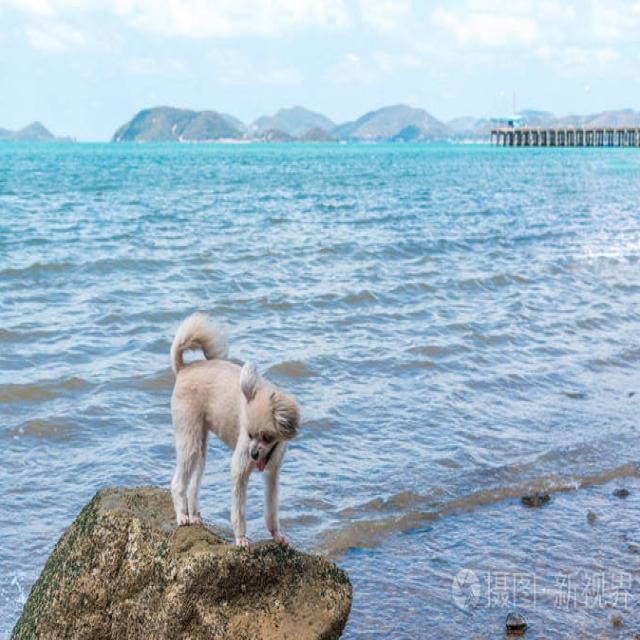reef: (70, 471, 343, 640)
